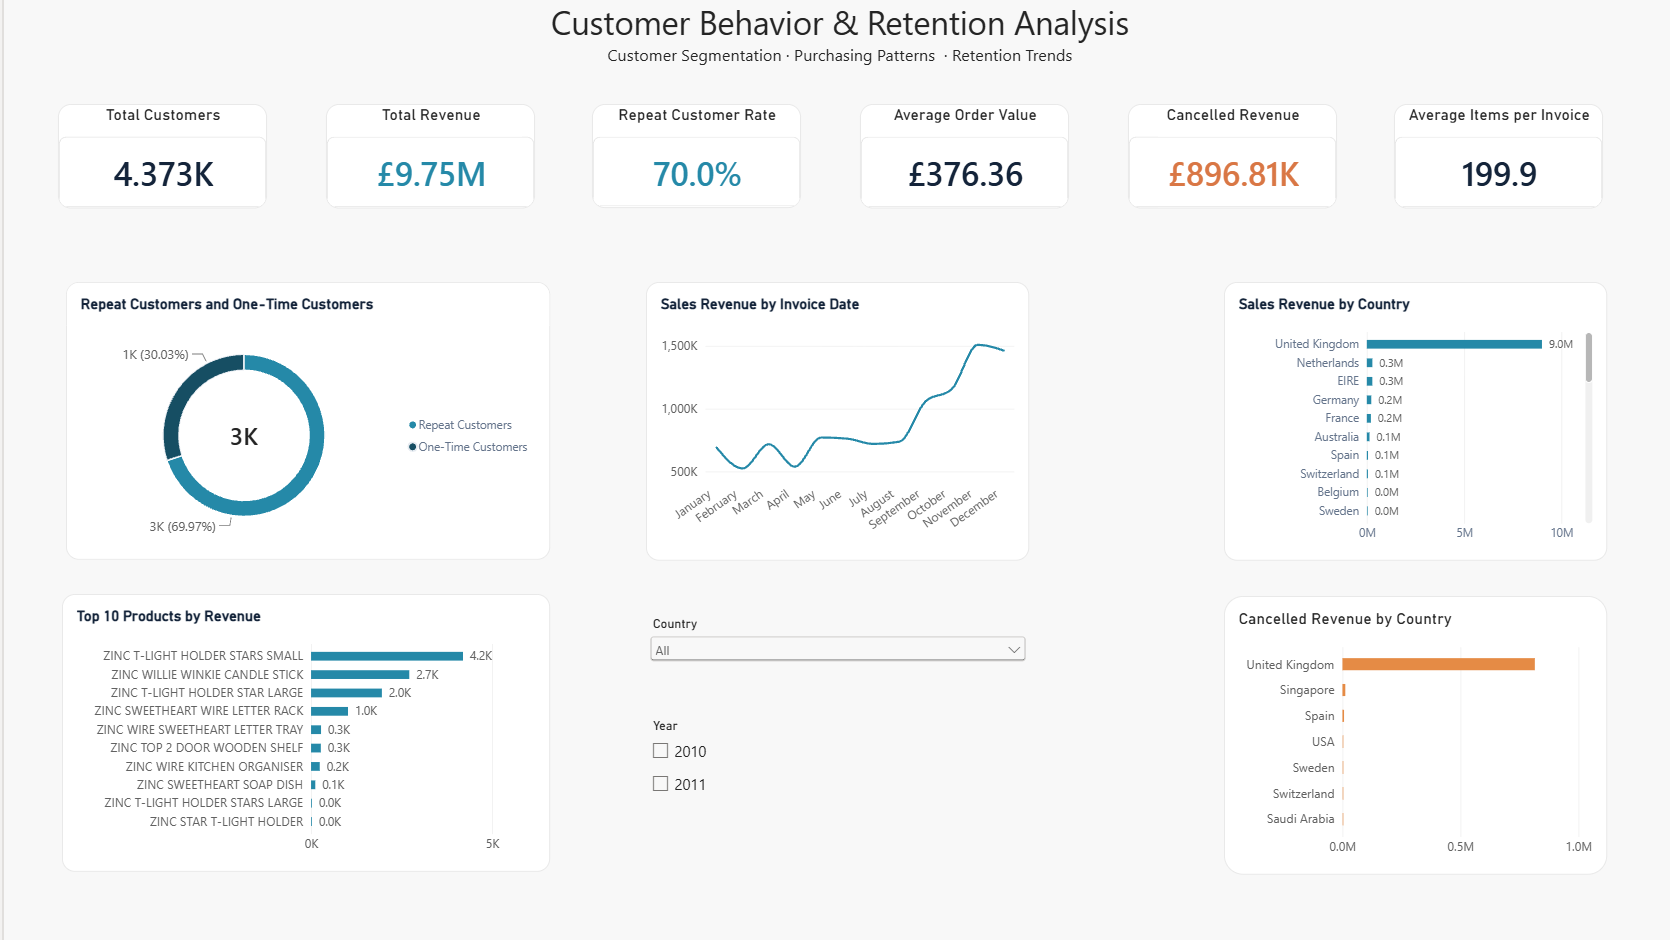

What the dashboard file says about the page in this screenshot:
{"tool":"powerbi","page":{"name":"Page 1","canvas":[1920,1080],"ordinal":0},"visuals":[{"type":"cardVisual","title":"Total Customers","fields":{"Data":["Online Retail.Total Customers"]},"box":[62,120,240,120],"z":0},{"type":"cardVisual","title":"Total Revenue","fields":{"Data":["Online Retail.Total Revenue"]},"box":[369.1,120,240,120],"z":1000},{"type":"cardVisual","title":"Repeat Customer Rate","fields":{"Data":["Online Retail.Repeat Customer Rate"]},"box":[676.1,120.3,240,119.4],"z":2000},{"type":"cardVisual","title":"Average Order Value","fields":{"Data":["Online Retail.Average_Order_Value"]},"box":[983.2,120,240,120],"z":3000},{"type":"donutChart","fields":{"Y":["Online Retail.Repeat Customers","Online Retail.One-Time Customers"]},"box":[71.2,323.8,555.8,319.2],"z":4000},{"type":"lineChart","title":"Sales Revenue by Invoice Date","fields":{"Category":["Online Retail.InvoiceDate.Variation.Date Hierarchy.Month","Online Retail.InvoiceDate.Variation.Date Hierarchy.Day"],"Y":["Online Retail.Sales Revenue"]},"box":[736.1,323.8,440,320],"z":5000},{"type":"clusteredBarChart","fields":{"Category":["Online Retail.Country"],"Y":["Online Retail.Sales Revenue"]},"box":[1401,323.8,440,320],"z":6000},{"type":"clusteredBarChart","title":"Top 10 Products by Revenue","fields":{"Category":["Online Retail.Description"],"Y":["Online Retail.Sales Revenue"]},"box":[66.6,682.1,560.4,319.2],"z":7000},{"type":"cardVisual","title":"Cancelled Revenue","fields":{"Data":["Online Retail.Cancelled Revenue"]},"box":[1290.3,120,240,120],"z":8000},{"type":"clusteredBarChart","fields":{"Category":["Online Retail.Country"],"Y":["Online Retail.Cancelled Revenue"]},"box":[1401,684.4,440,320],"z":9000},{"type":"cardVisual","title":"Average Items per Invoice","fields":{"Data":["Online Retail.Average Basket Size"]},"box":[1597.3,120,240,120],"z":10000},{"type":"slicer","fields":{"Values":["Online Retail.Country"]},"box":[737.2,707.4,441,117.1],"z":11000},{"type":"slicer","fields":{"Values":["Online Retail.InvoiceDate.Variation.Date Hierarchy.Year"]},"box":[737.2,824.5,441,206.7],"z":12000},{"type":"textbox","box":[1168,682,150,381],"z":13000},{"type":"textbox","box":[1168,682,150,381],"z":14000},{"type":"textbox","box":[594.8,0,730.3,117.1],"z":15000}]}

Visuals, with their boxes in screenshot pixels (x1, y1, x2, y2), scaled from the page's 1920x1080 canvas onto the 1670x940 screenshot:
"Total Customers" cardVisual: l=54, t=104, r=263, b=209
"Total Revenue" cardVisual: l=321, t=104, r=530, b=209
"Repeat Customer Rate" cardVisual: l=588, t=105, r=797, b=209
"Average Order Value" cardVisual: l=855, t=104, r=1064, b=209
donutChart - Online Retail.Repeat Customers x Online Retail.One-Time Customers: l=62, t=282, r=545, b=560
"Sales Revenue by Invoice Date" lineChart: l=640, t=282, r=1023, b=560
clusteredBarChart - Online Retail.Country x Online Retail.Sales Revenue: l=1219, t=282, r=1601, b=560
"Top 10 Products by Revenue" clusteredBarChart: l=58, t=594, r=545, b=872
"Cancelled Revenue" cardVisual: l=1122, t=104, r=1331, b=209
clusteredBarChart - Online Retail.Country x Online Retail.Cancelled Revenue: l=1219, t=596, r=1601, b=874
"Average Items per Invoice" cardVisual: l=1389, t=104, r=1598, b=209
slicer - Online Retail.Country: l=641, t=616, r=1025, b=718
slicer - Online Retail.InvoiceDate.Variation.Date Hierarchy.Year: l=641, t=718, r=1025, b=898
textbox: l=1016, t=594, r=1146, b=925
textbox: l=1016, t=594, r=1146, b=925
textbox: l=517, t=0, r=1153, b=102
